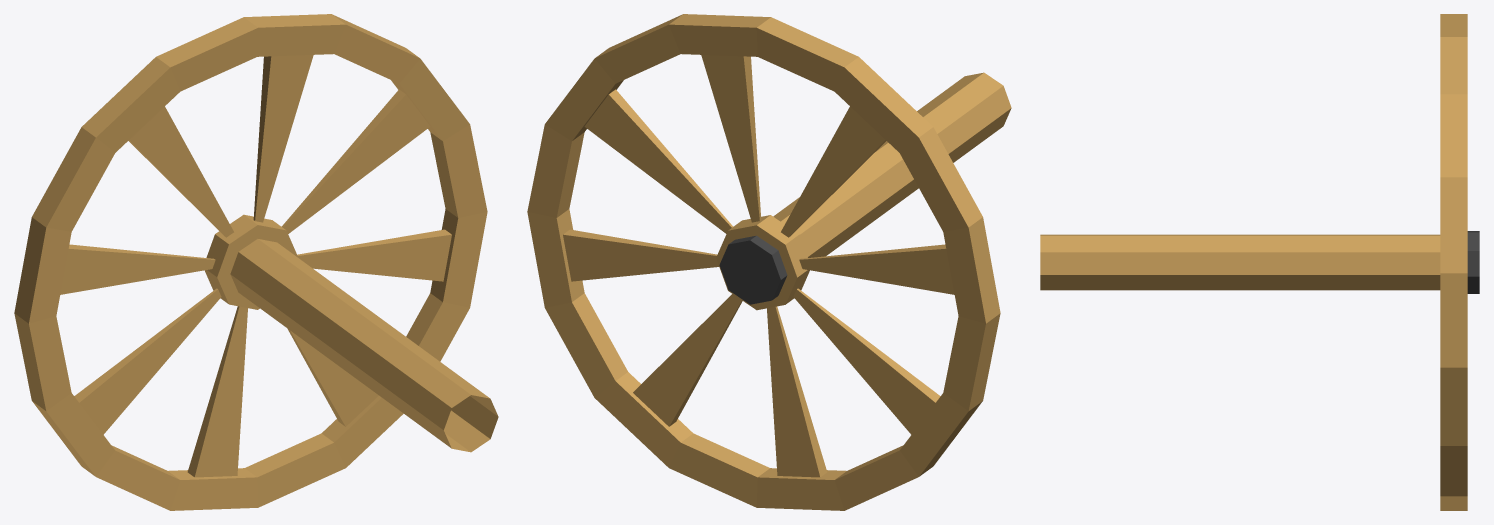
The model's file is wheel.fbx.
The picture shows the model from 3 angles, left to right: view 1: azimuth 30°, elevation 25°; view 2: azimuth 150°, elevation 25°; view 3: azimuth 270°, elevation 25°; orthographic projection. The views are drawn at different scales.
Visible parts, largest first — view 1: Circle.006; view 2: Circle.006; view 3: Circle.006.
Boxes of the visible parts, <box> form: Circle.006: <box>14,14,498,510</box>; Circle.006: <box>527,14,1011,510</box>; Circle.006: <box>1040,14,1479,510</box>.
Bounding box in the file's own units: 107 × 107 × 94.85.
